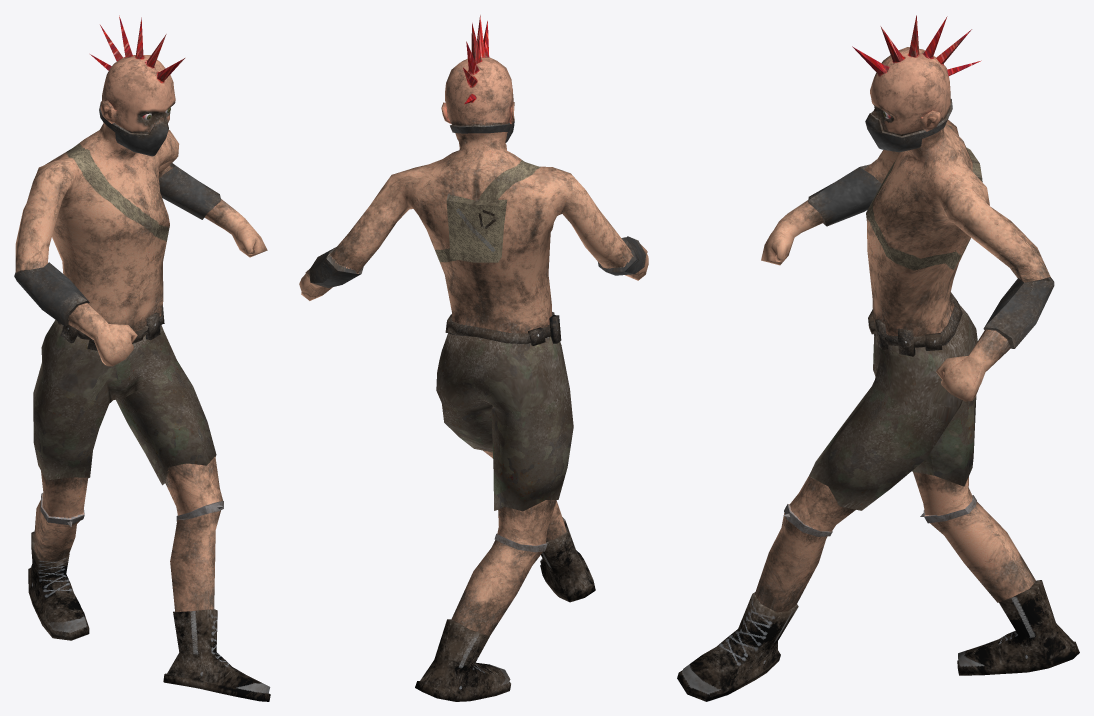
File: Anim_ataque_f1_npc2.0014.obj
The picture shows the model from 3 angles, left to right: view 1: azimuth 30°, elevation 25°; view 2: azimuth 150°, elevation 25°; view 3: azimuth 270°, elevation 25°; orthographic projection. The views are drawn at different scales.
Parts seen in each view (by area): view 1: polySurface1; view 2: polySurface1; view 3: polySurface1.
Boxes of the visible parts, left/top/right/bottom form: polySurface1: left=14, top=15, right=270, bottom=701; polySurface1: left=299, top=15, right=648, bottom=701; polySurface1: left=677, top=15, right=1079, bottom=701.
Size of the model in its own units: 4.74 by 9.76 by 5.23.
